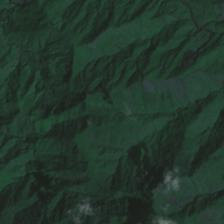landslides: (16, 0, 34, 8)
